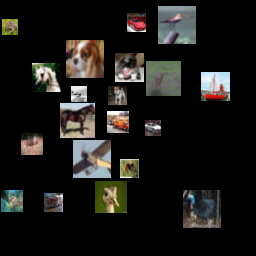airplane: (73, 140, 111, 178), (71, 86, 87, 102)
automobile: (127, 13, 146, 32), (145, 120, 161, 136)
bird: (183, 190, 221, 228), (158, 6, 196, 44), (95, 181, 127, 213)
deer: (146, 61, 181, 96), (1, 190, 23, 212), (21, 133, 43, 155), (120, 159, 139, 178)
dog: (66, 40, 104, 78), (115, 53, 144, 82), (108, 86, 127, 105)
frog: (2, 19, 18, 35)
ship: (201, 72, 230, 101)
